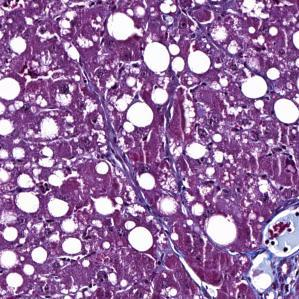fibrosis: (246, 211, 299, 298)
